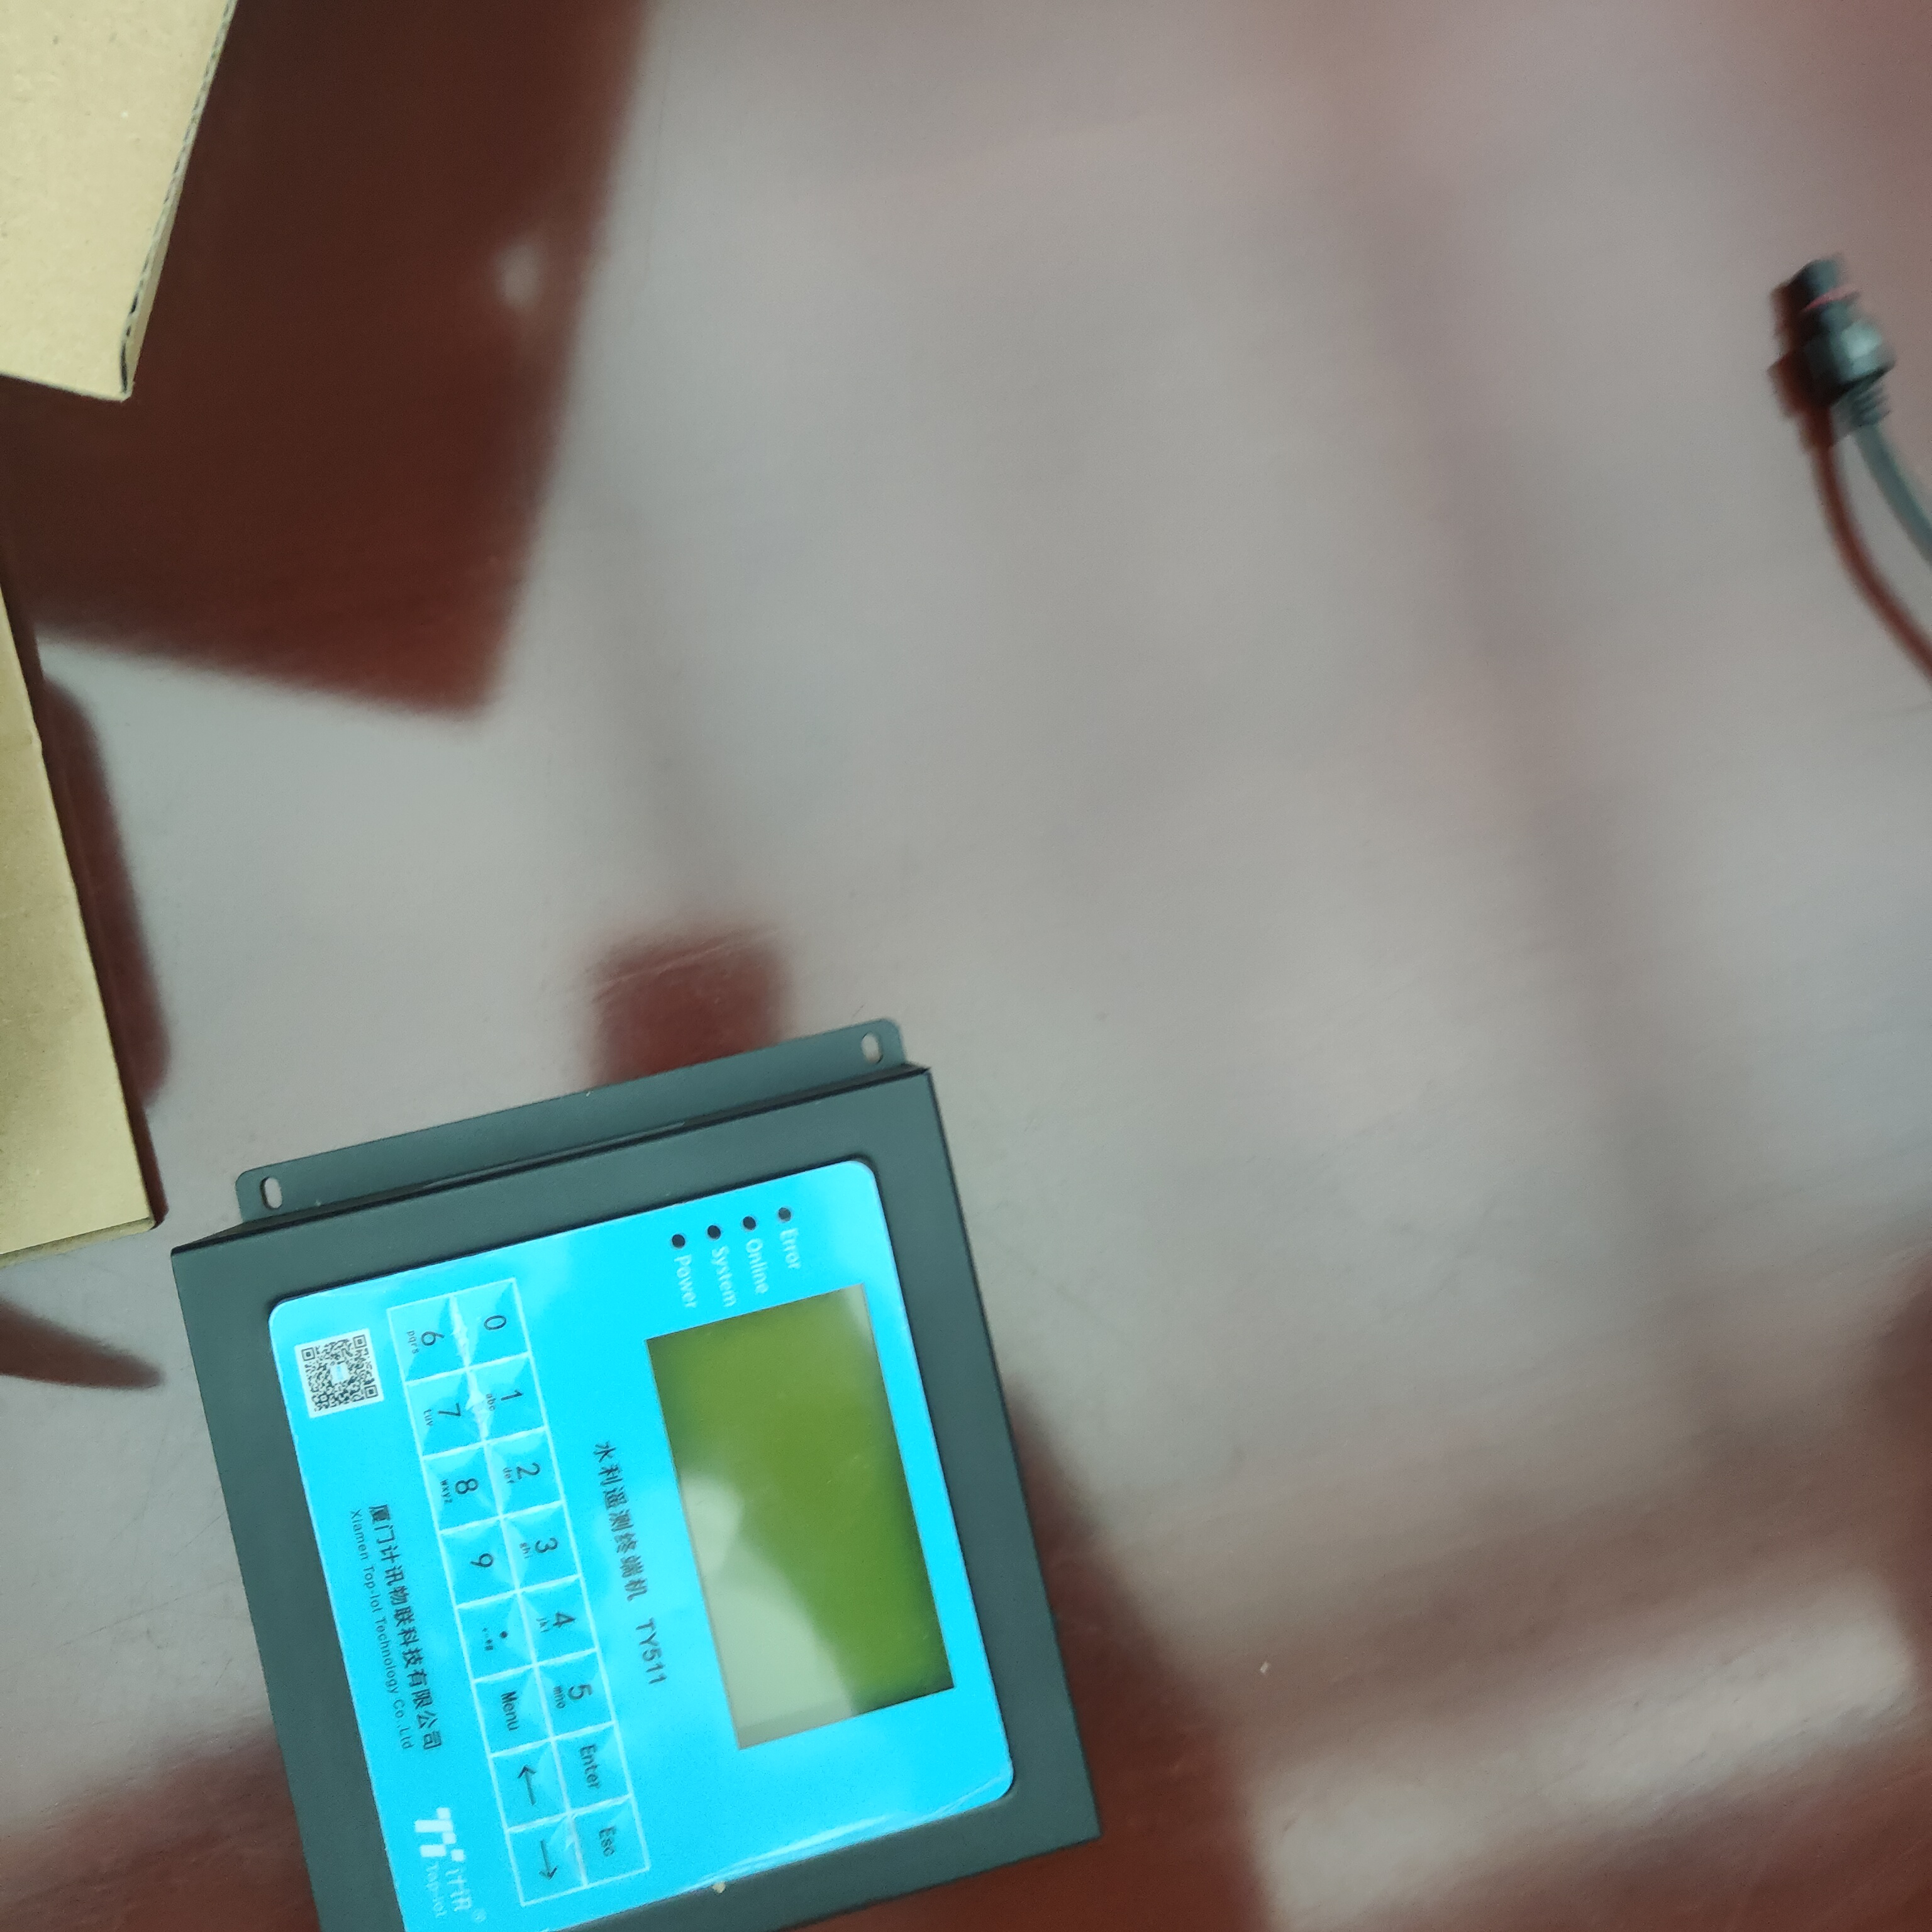slyczd: (177, 1019, 1116, 1916)
